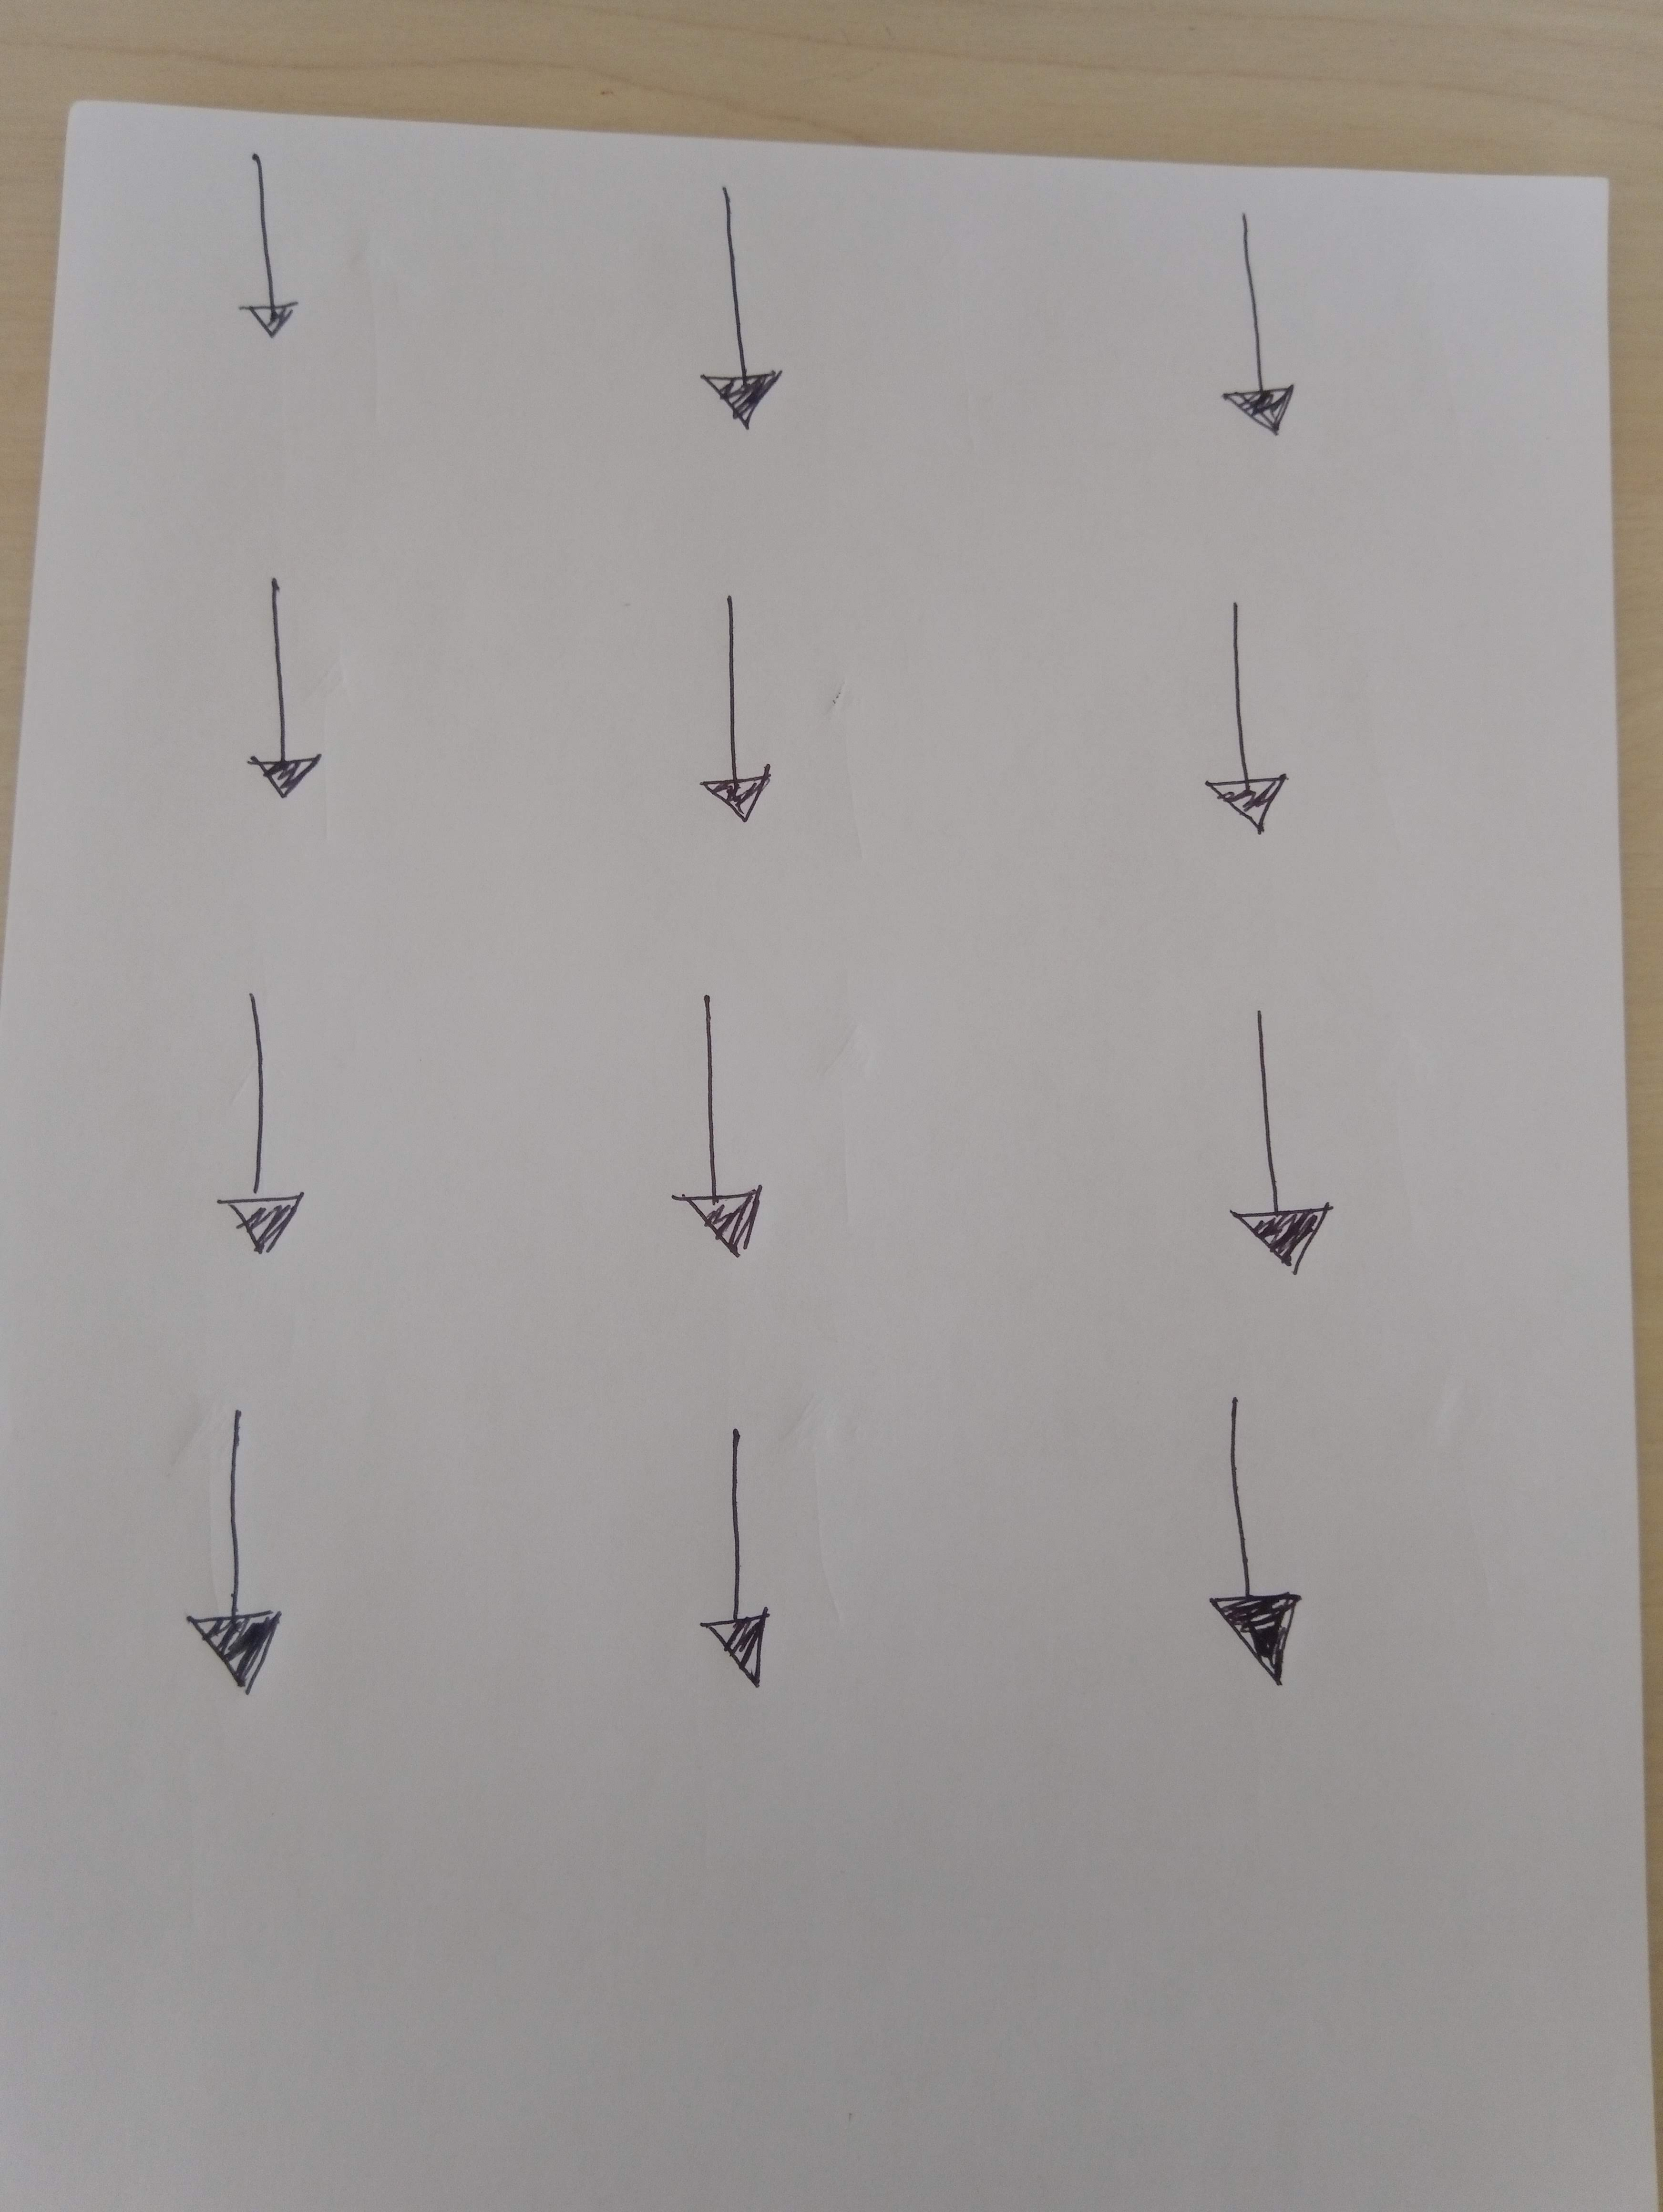arrow_line_down: (1177, 1421, 1333, 1697), (1214, 1007, 1340, 1285), (210, 988, 327, 1271), (166, 1411, 279, 1697), (673, 1428, 790, 1700), (667, 988, 774, 1271), (690, 189, 807, 445), (1207, 215, 1310, 449), (1197, 604, 1287, 854), (687, 588, 770, 835), (217, 152, 313, 344), (243, 581, 323, 805)
